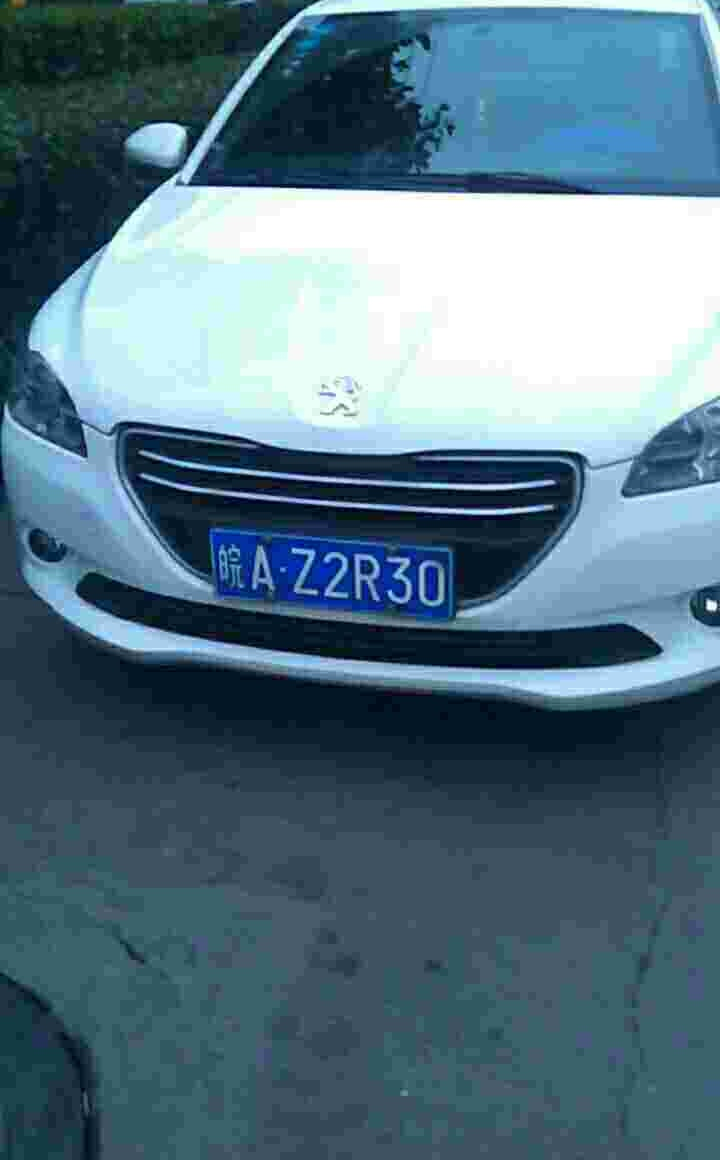license_plate: (194, 513, 460, 628)
